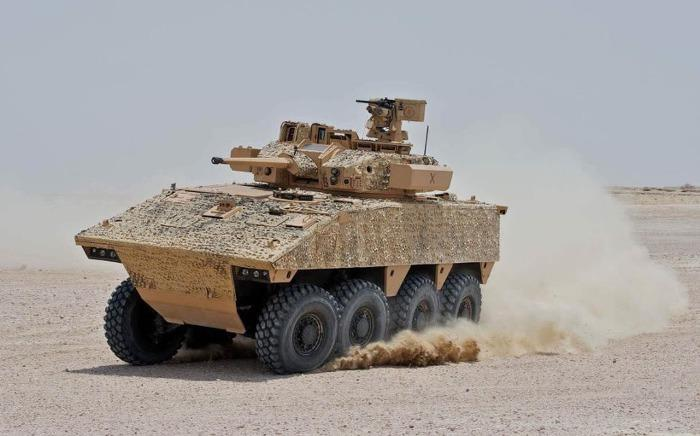MIL_IFV: (72, 93, 510, 373)
